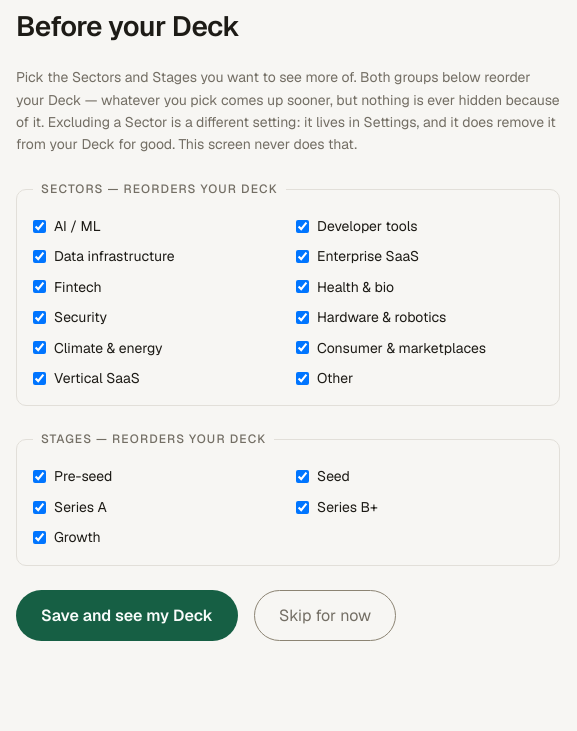
Onboarding › shows an explicit error and stays on the screen when saving fails
Click the button "Save and see my Deck" at (127, 615), box left=16, top=590, right=238, bottom=641
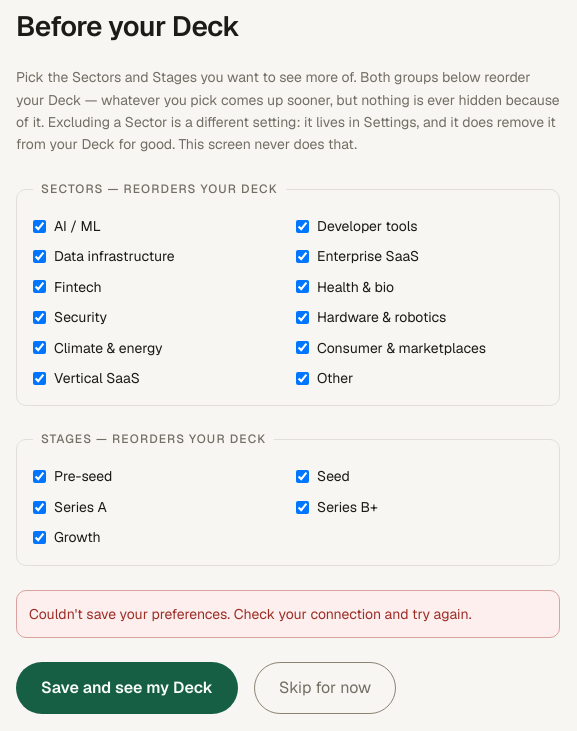
Expected: the message reads "Couldn't save your preferences. Check your connection and try again.", left=29, top=605, right=472, bottom=623
